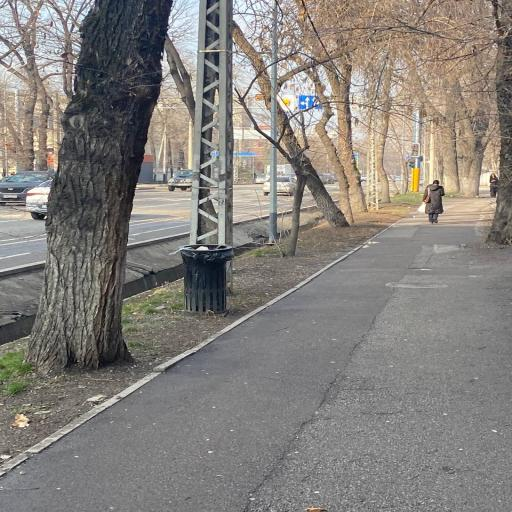crosswalk: (423, 180, 445, 224)
glass_wall: (0, 199, 511, 511)
pole: (410, 142, 422, 158)
ramp: (180, 244, 234, 314)
